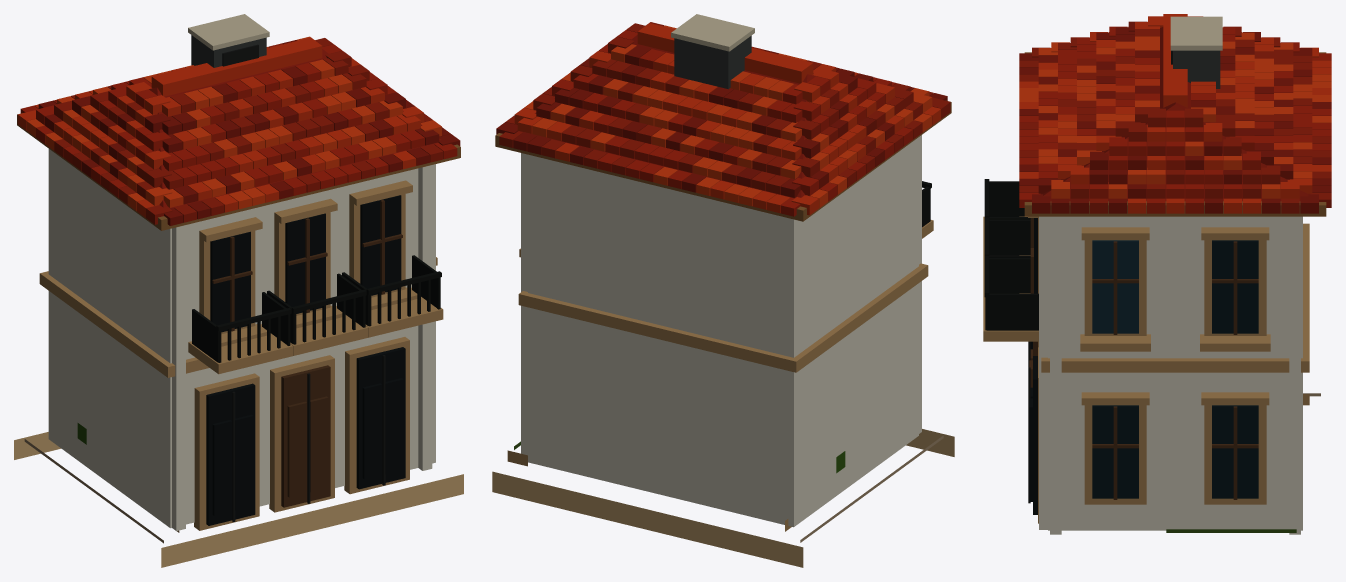
File: SM_StreetFrontage_002.fbx
The picture shows the model from 3 angles, left to right: view 1: azimuth 30°, elevation 25°; view 2: azimuth 150°, elevation 25°; view 3: azimuth 270°, elevation 25°; orthographic projection. The views are drawn at different scales.
Visible parts, largest first — view 1: SM_StreetFrontage_002; view 2: SM_StreetFrontage_002; view 3: SM_StreetFrontage_002.
Boxes of the visible parts, x1,y1,x2,y2 form: SM_StreetFrontage_002: (14, 14, 463, 567); SM_StreetFrontage_002: (492, 14, 954, 567); SM_StreetFrontage_002: (983, 14, 1331, 534).
Size of the model in its own units: 7.79 by 7.36 by 10.71.
